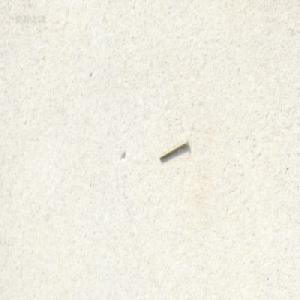Bolt: (158, 136, 188, 160)
